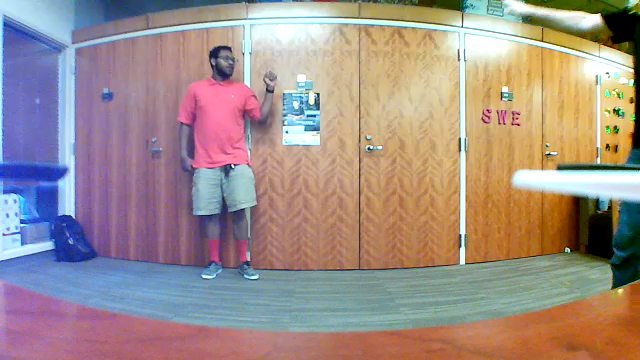up: (260, 63, 278, 95)
